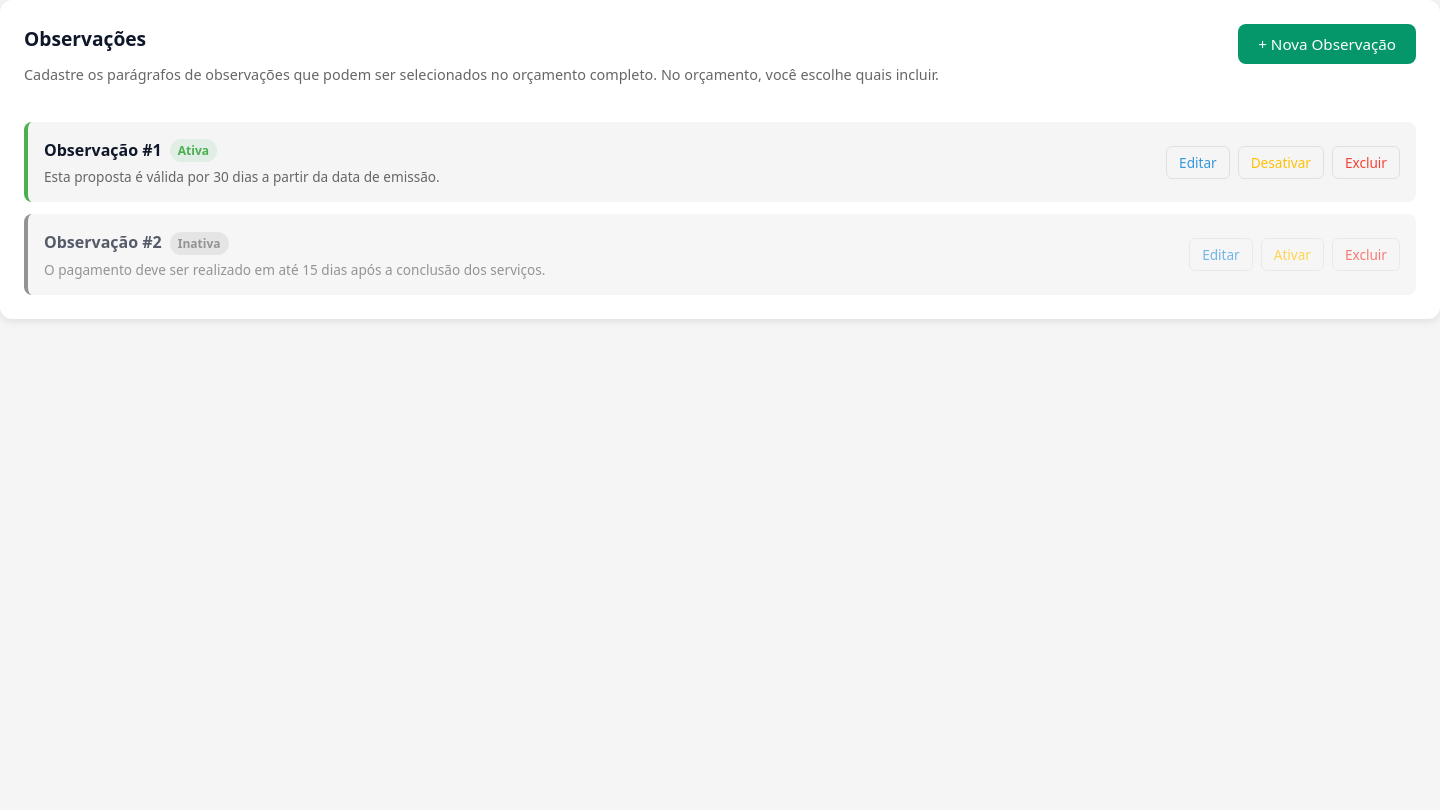
Scenario: LimitacoesTab › Criar nova limitação › deve mostrar erro ao falhar criar
Click the button "+ Nova Observação".
click(1327, 44)  # box [1238,24,1416,64]
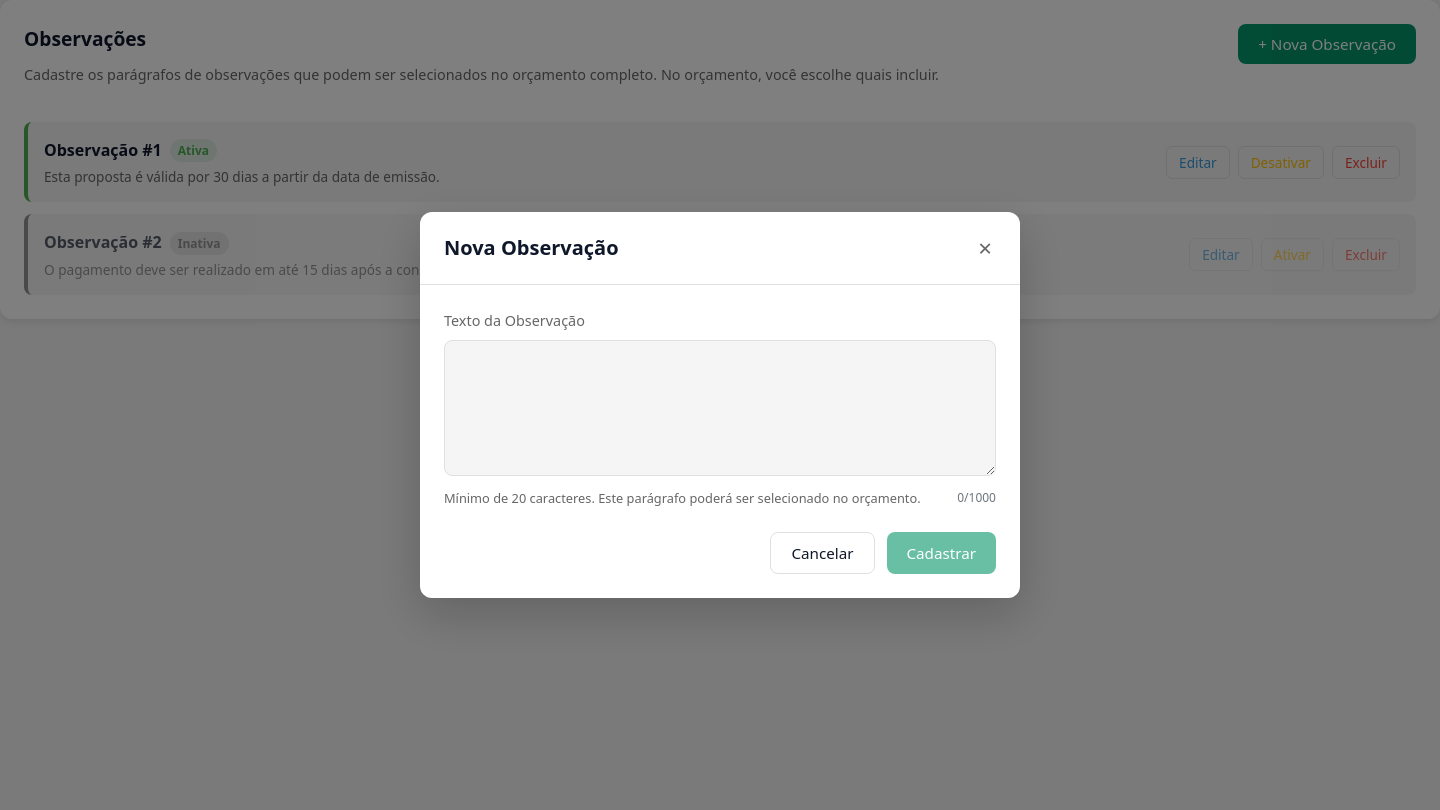
Check: the heading "Nova Observação" is shown, box [444,232,618,264]
Type "Esta é uma nova observação com mais de vinte caracteres" into the text box.
click(720, 408); type("Esta é uma nova observação com mais de vinte caracteres")  # box [444,340,996,476]
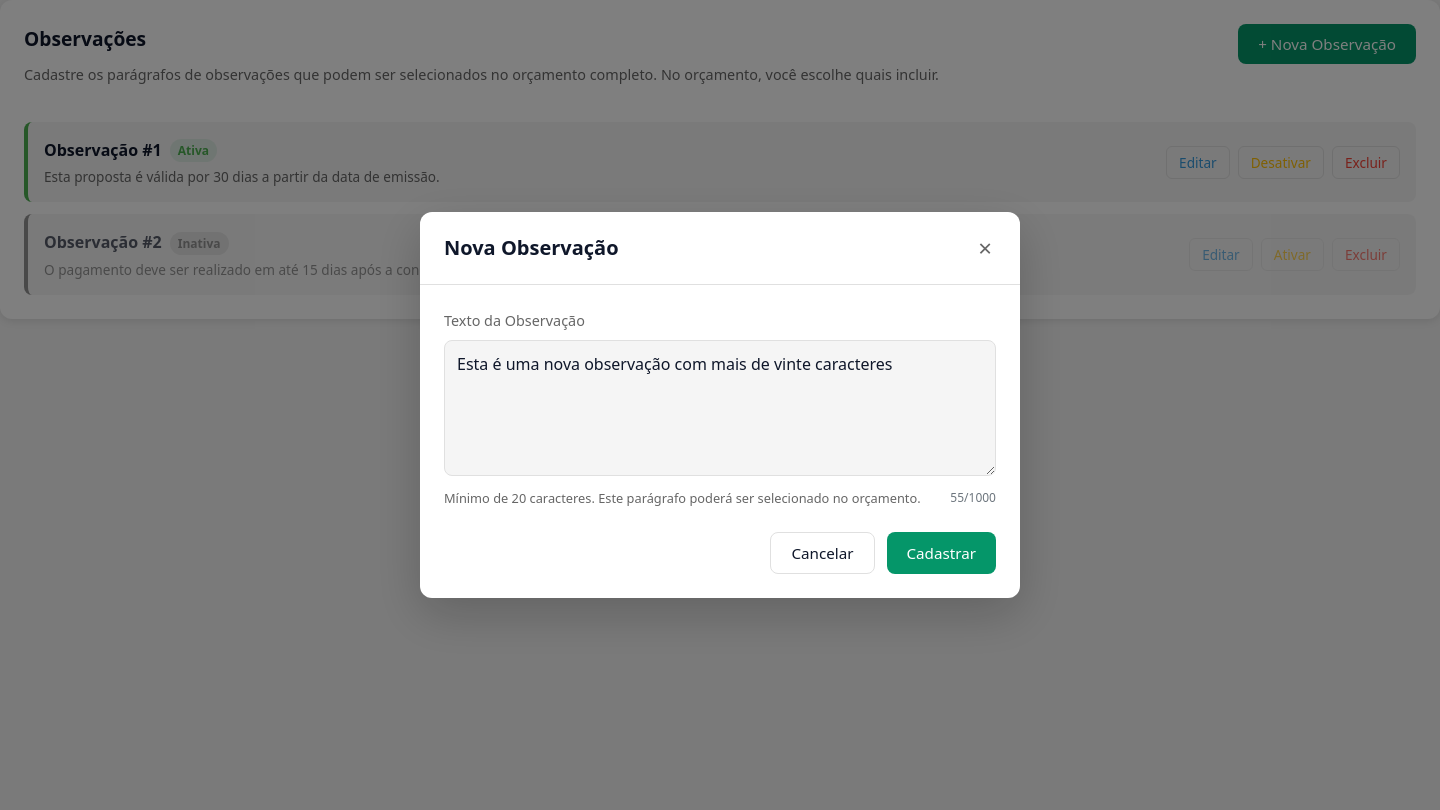
Click the button "Cadastrar".
click(941, 553)  # box [886,532,996,574]
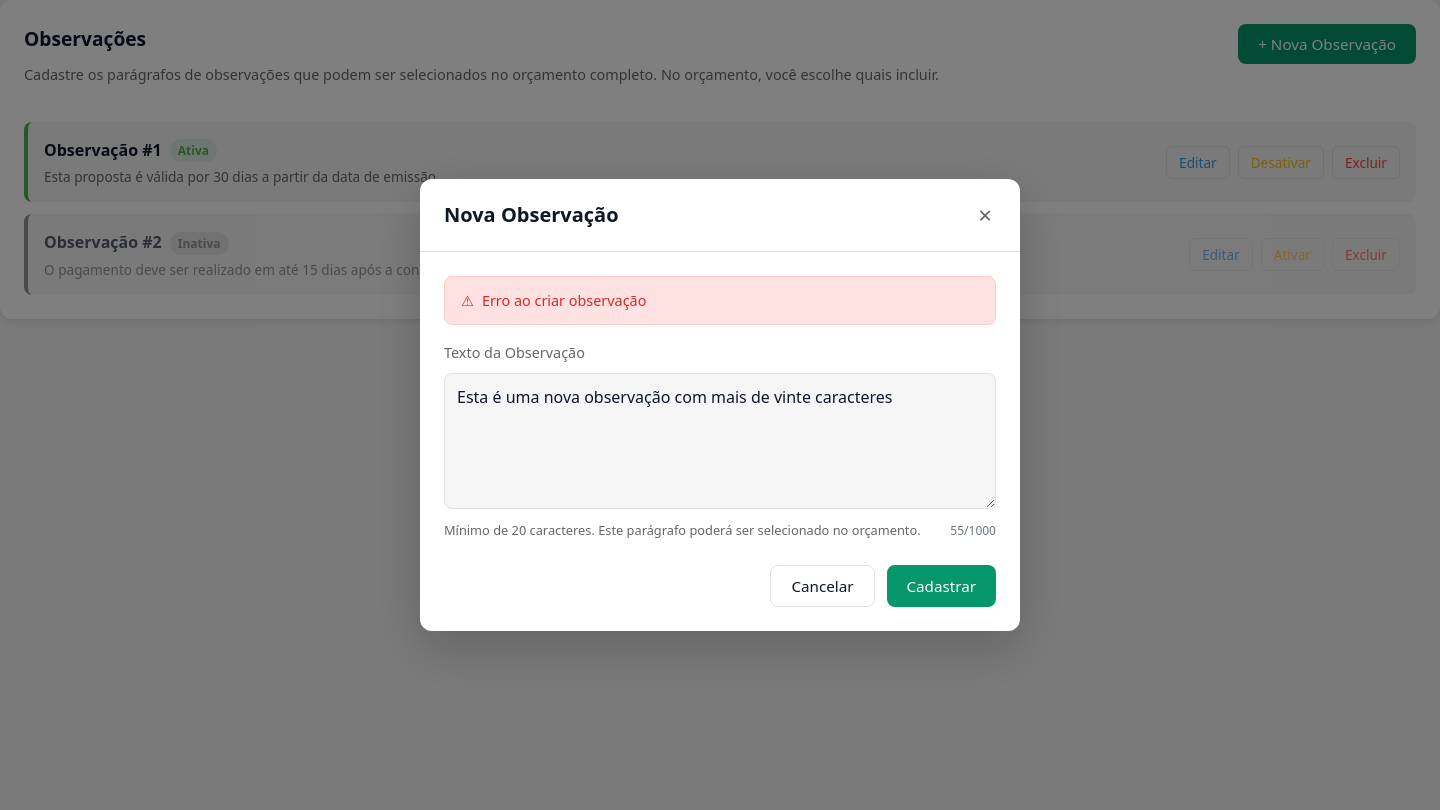
Check: the text "Erro ao criar observação" is shown, box [444,276,996,325]
